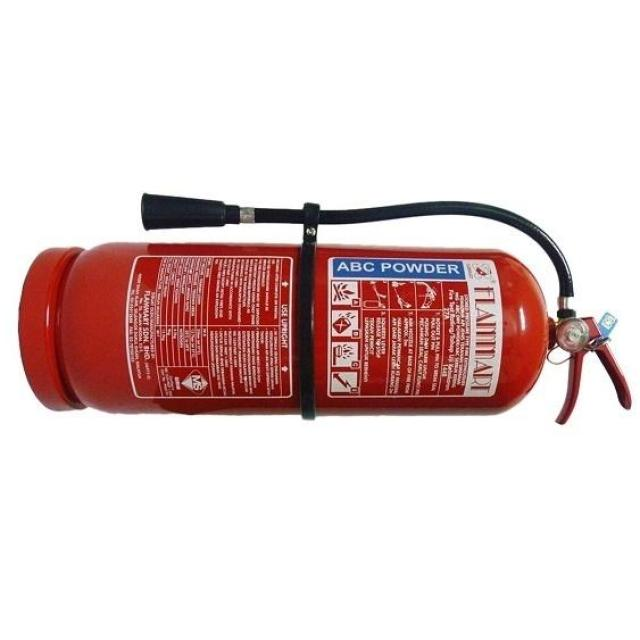fire_extinguisher: (14, 187, 639, 430)
